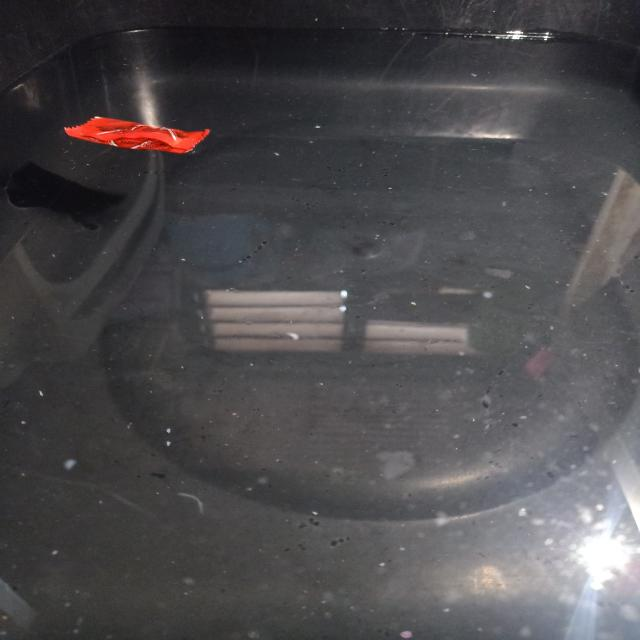Plastic Wrapper: (64, 117, 210, 153)
